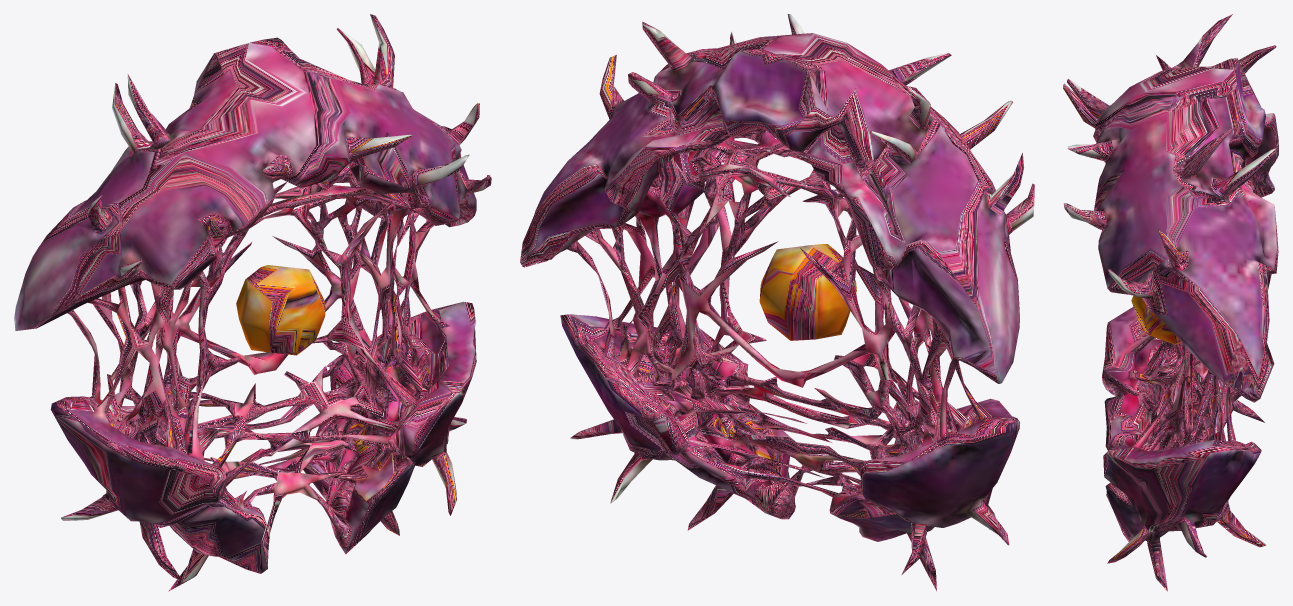
3 renders of one model, left to right at view 1: azimuth 30°, elevation 25°; view 2: azimuth 150°, elevation 25°; view 3: azimuth 270°, elevation 25°, orthographic. The views are drawn at different scales.
Size of the model in its own units: 0.941 by 1 by 0.4184.
1 material, 1 textured.
